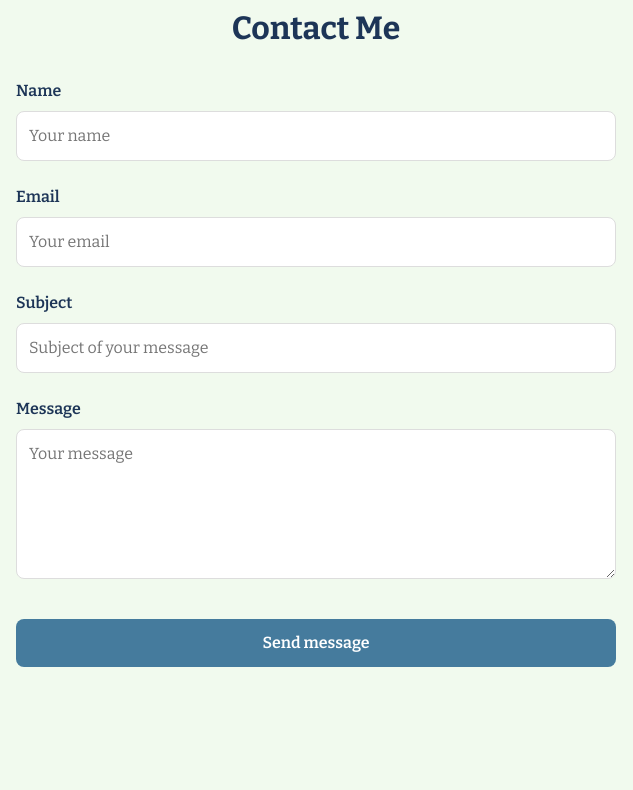
it: ContactForm › submits form successfully with valid data
The width and height of the screenshot is (633, 790).
In the field labelled "Name": (316, 136) [16,111,616,161], type "John Doe"
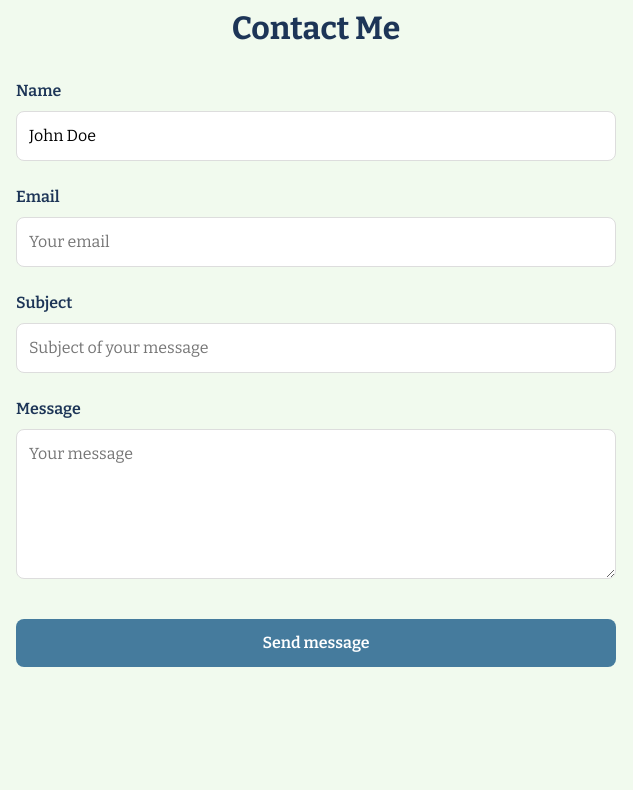
In the field labelled "Email": (316, 242) [16,217,616,267], type "john@example.com"
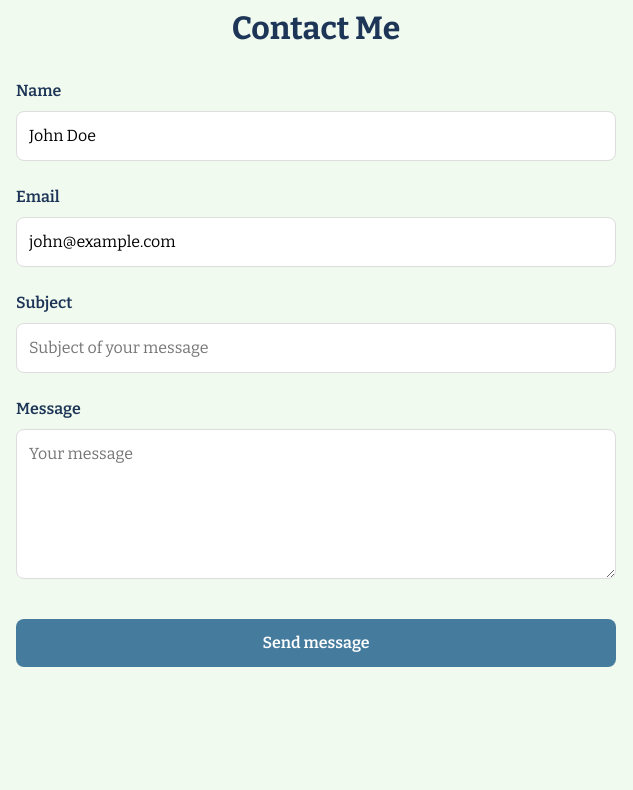
In the field labelled "Subject": (316, 348) [16,323,616,373], type "Test Subject"
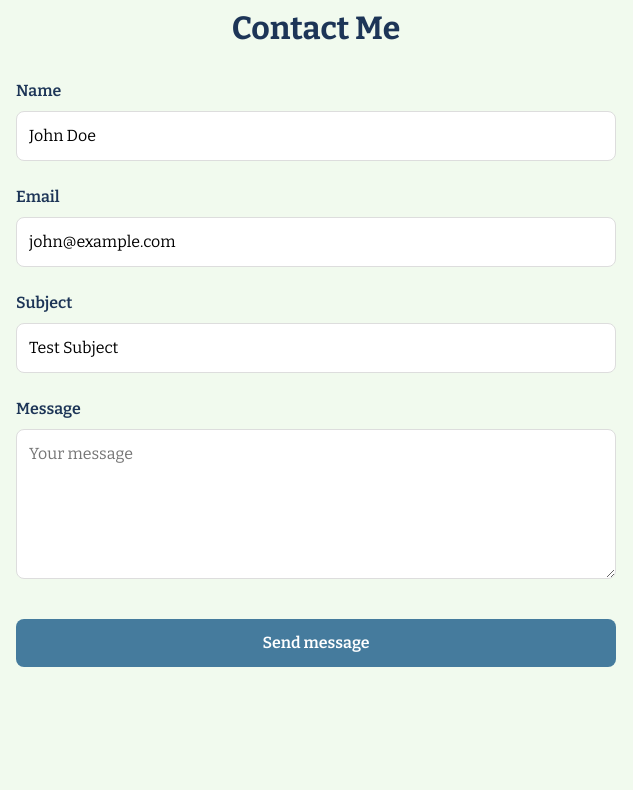
In the text box labelled "Message": (316, 504) [16,429,616,579], type "This is a test message with enough characters"
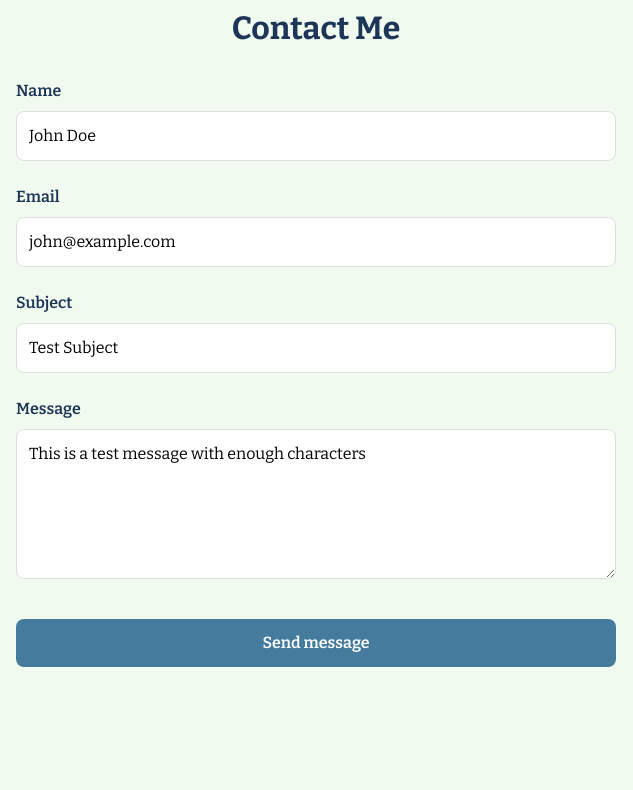
Submit the form "Name Email Subject Message Send message"
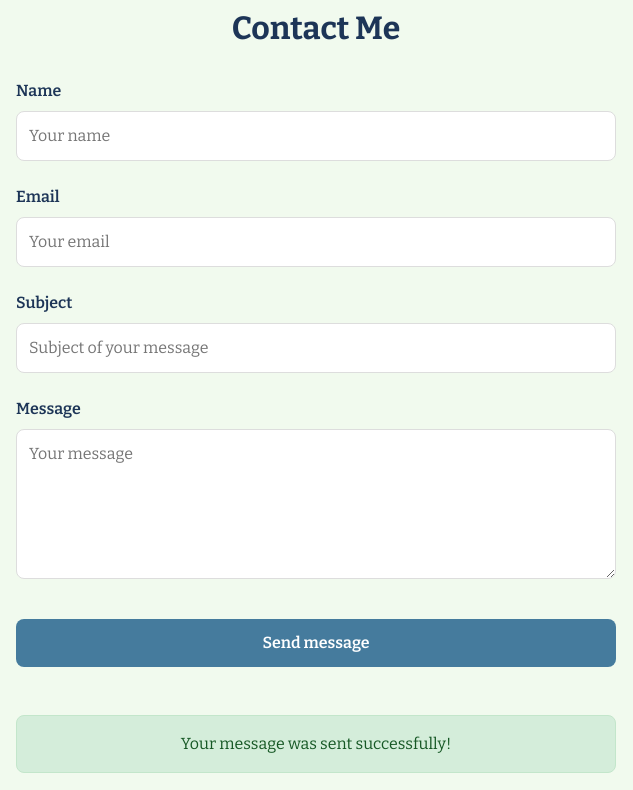
Expected: the text "Your message was sent successfully!" is shown, [16,715,616,773]
